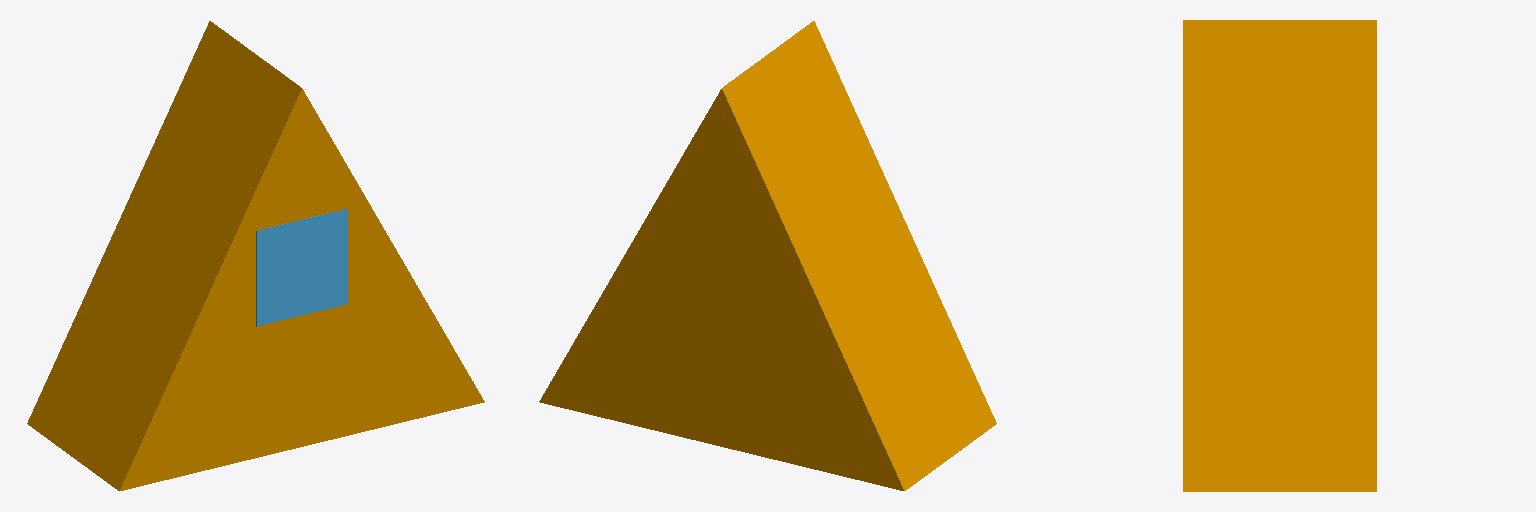
robot.urdf — onigiri:
<?xml version="1.0" ?>
<!-- =================================================================================== -->
<!-- |    This document was autogenerated by xacro from onigiri.urdf.xacro             | -->
<!-- |    EDITING THIS FILE BY HAND IS NOT RECOMMENDED                                 | -->
<!-- =================================================================================== -->
<robot name="onigiri" xmlns:xacro="http://www.ros.org/wiki/xacro">
  <link name="onigiri">
    <inertial>
      <origin xyz="0 0 0"/>
      <mass value="0.1"/>
      <!-- <inertia ixx="0.0001" ixy="0" ixz="0" iyy="0.0001" iyz="0" izz="0.0001"/> -->
      <inertia ixx="1" ixy="0" ixz="0" iyy="1" iyz="0" izz="1"/>
    </inertial>
    <collision>
      <origin xyz="0 0 0"/>
      <geometry>
        <mesh filename="package://fcsc_description/mesh/onigiri.stl" scale="1 1 1"/>
      </geometry>
    </collision>
    <visual>
      <origin xyz="0 0 0"/>
      <geometry>
        <mesh filename="package://fcsc_description/mesh/onigiri.stl" scale="1 1 1"/>
      </geometry>
    </visual>
  </link>
  <gazebo reference="onigiri">
    <mu1 value="100"/>
    <mu2 value="100"/>
    <kp value="8166"/>
    <!-- <kd value="8166"/> -->
    <kd value="4083"/>
  </gazebo>
  <link name="ar_marker">
    <inertial>
      <origin xyz="0 0 0"/>
      <!-- <mass value="10"/> -->
      <mass value="0.00000001"/>
      <!-- <inertia ixx="0.0001" ixy="0" ixz="0" iyy="0.0001" iyz="0" izz="0.0001"/> -->
      <inertia ixx="1" ixy="0" ixz="0" iyy="1" iyz="0" izz="1"/>
    </inertial>
    <collision>
      <origin xyz="0 0 0"/>
      <geometry>
        <!-- <box size="0.03 0.1 0.03"/> -->
        <box size="0.02 0.0001 0.02"/>
      </geometry>
    </collision>
    <visual>
      <origin xyz="0 0 0"/>
      <geometry>
        <!-- <box size="0.02 0.1 0.02"/> -->
        <box size="0.02 0.0001 0.02"/>
      </geometry>
      <material name="ar_marker_0">
        <texture filename="package://fcsc_description/image/MarkerData_0.png"/>
      </material>
    </visual>
  </link>
  <gazebo reference="ar_marker">
    <!-- <material>ar_marker_0</material> -->
    <material>ar_marker_0</material>
  </gazebo>
  <joint name="ar" type="fixed">
    <parent link="onigiri"/>
    <child link="ar_marker"/>
    <!-- <origin xyz="0 -0.0175 0.04" rpy="0 0 0"/> -->
    <origin rpy="0 0 0" xyz="0 -0.0175 0.0375"/>
    <!-- <axis xyz="0 1 0"/> -->
    <!-- <limit effort="0" velocity="0" lower="0" upper="0" /> -->
  </joint>
</robot>

--- Render facts (derived) ---
The picture shows the robot from 3 angles, left to right: view 1: azimuth 30°, elevation 25°; view 2: azimuth 150°, elevation 25°; view 3: azimuth 270°, elevation 25°; orthographic projection.
Robot: onigiri — 2 links, 1 joints (1 fixed); root link onigiri; default pose: every joint at zero.
Links seen in each view (by area): view 1: onigiri, ar_marker; view 2: onigiri; view 3: onigiri.
Link boxes in pixels (box(x1,y1,x2,y2)): onigiri: box(27, 21, 484, 490); ar_marker: box(256, 209, 347, 326); onigiri: box(539, 21, 996, 490); onigiri: box(1183, 20, 1376, 491).
Bounding box of the posed robot: 0.08 × 0.0351 × 0.075 m (x, y, z).
Meshes: 1 distinct files referenced, 1 mesh visuals loaded (1 binary STL).